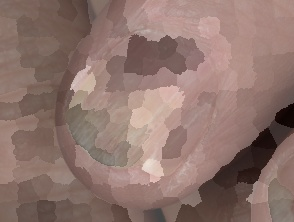Nail_psoriasis: (23, 0, 282, 222)
